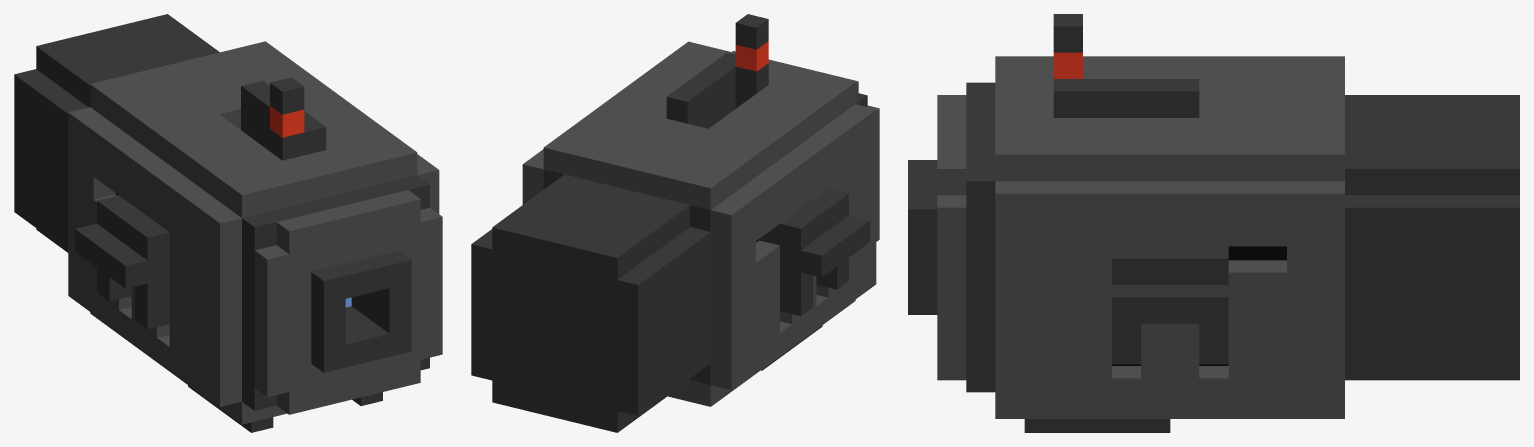
File: Other5.fbx
3 views of the same model, side by side, from view 1: azimuth 30°, elevation 25°; view 2: azimuth 150°, elevation 25°; view 3: azimuth 270°, elevation 25° (orthographic). The views are drawn at different scales.
Visible parts, largest first — view 1: Other5; view 2: Other5; view 3: Other5.
Part boxes in pixels (x1,y1,x2,y2): Other5: [14, 14, 442, 432]; Other5: [471, 14, 879, 432]; Other5: [908, 14, 1519, 432].
Size of the model in its own units: 70 by 70 by 105.
